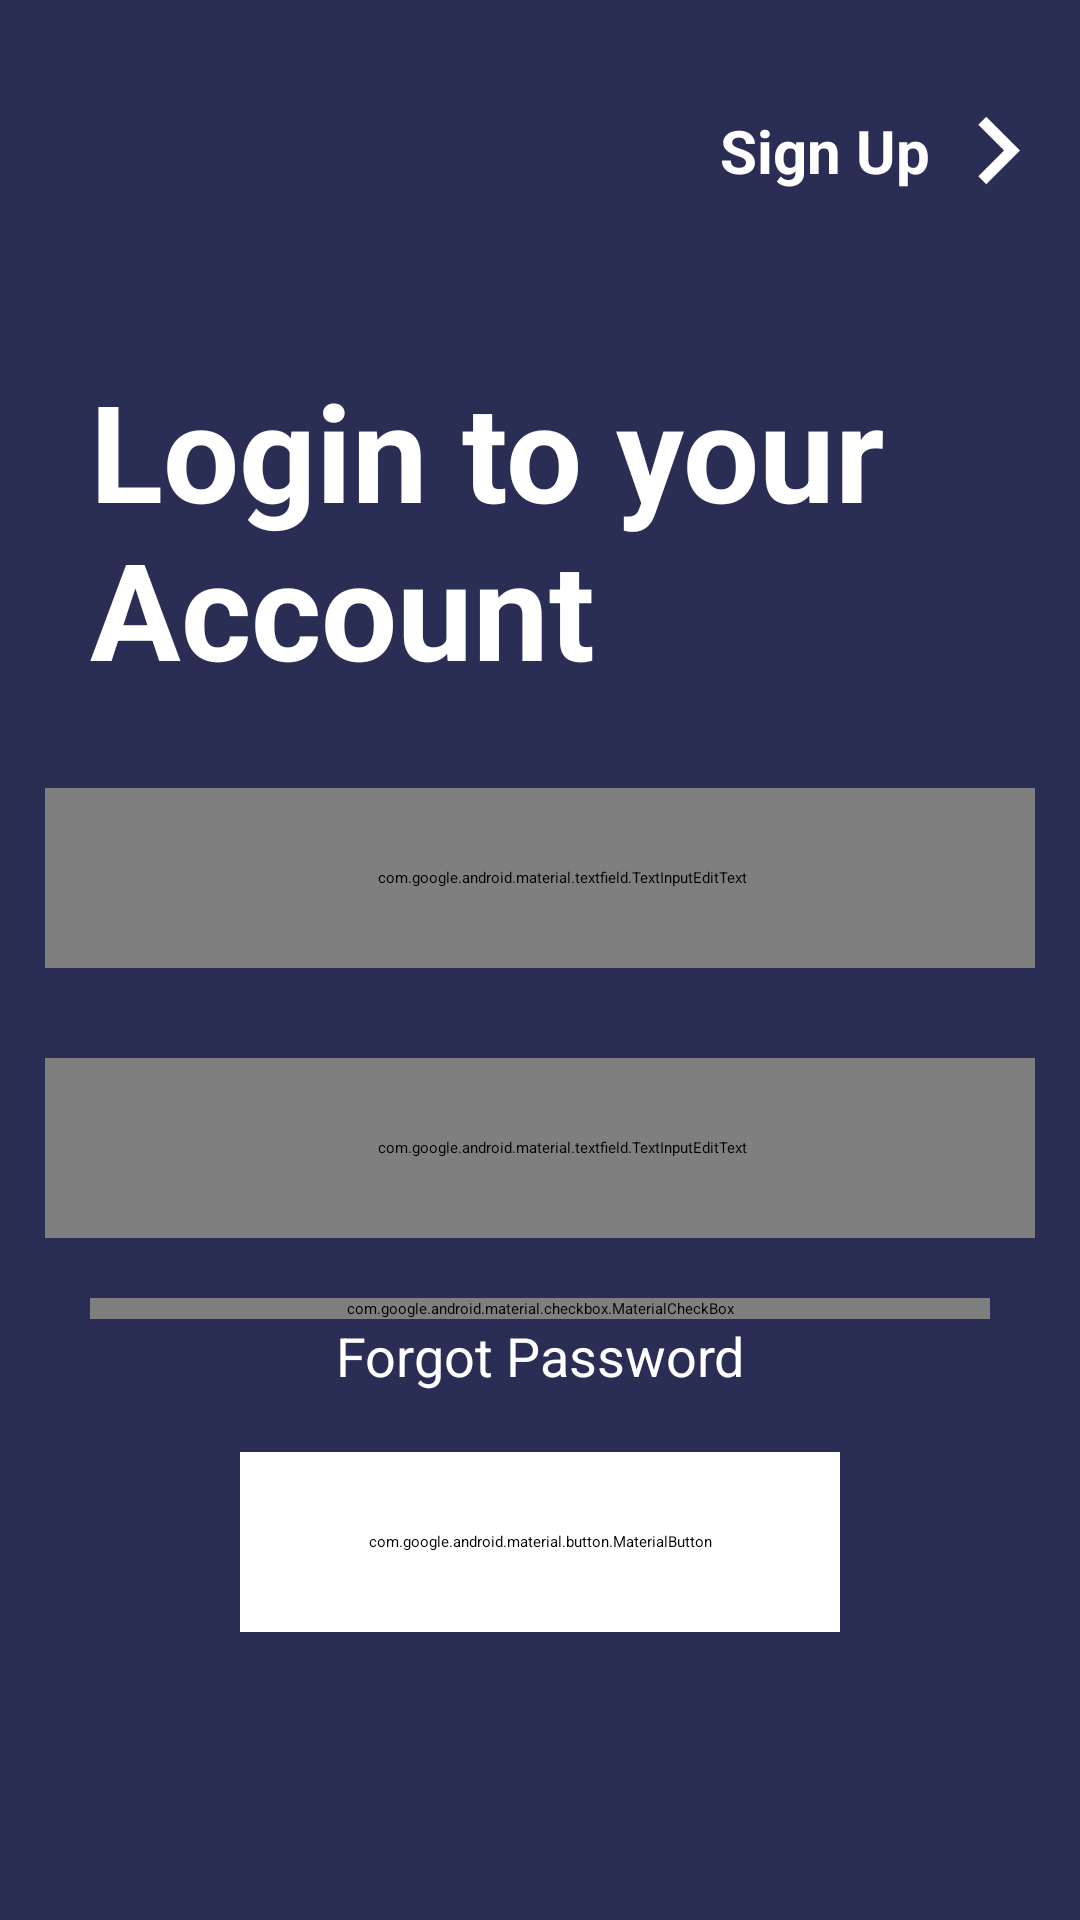

Icons on this 1080x1920 Android screen, each with its box as (x1,y1,x2,y2):
keyboard arrow right: (978,117,1020,184)
